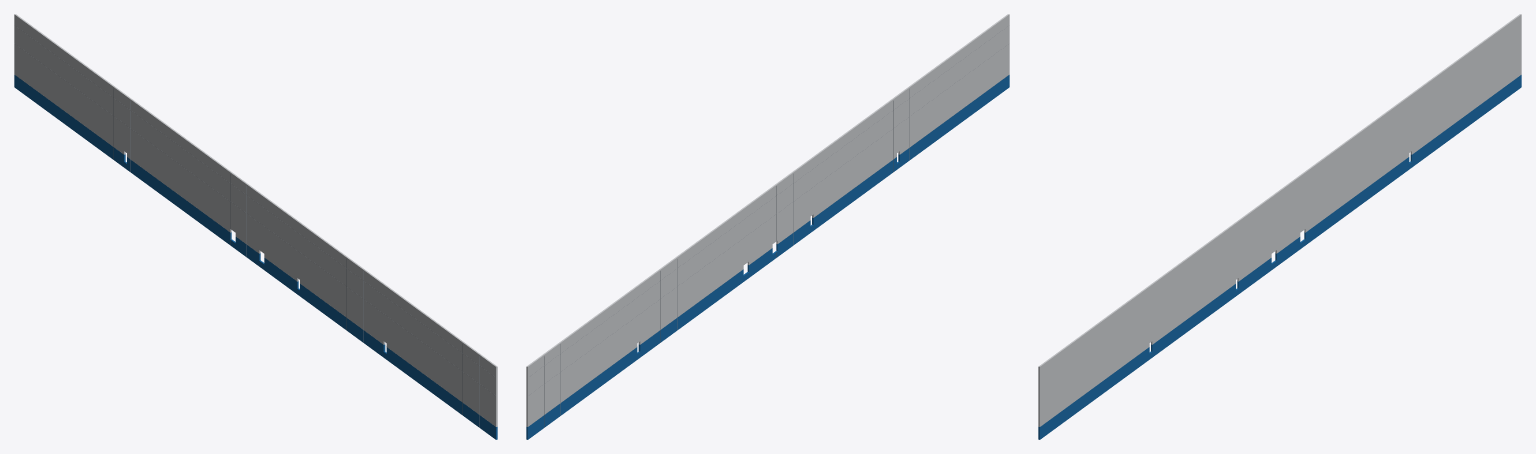
Rendered from SM_MPR_CAD_Facade_15_20261112.fbx.
The picture shows the model from 3 angles, left to right: view 1: azimuth 30°, elevation 25°; view 2: azimuth 150°, elevation 25°; view 3: azimuth 330°, elevation 25°; orthographic projection.
Visible parts, largest first — view 1: SM_MPR_CAD_Facade_15_20261112; view 2: SM_MPR_CAD_Facade_15_20261112; view 3: SM_MPR_CAD_Facade_15_20261112.
Boxes of the visible parts, box(x1,y1,x2,y2) form: SM_MPR_CAD_Facade_15_20261112: box(14, 14, 497, 439); SM_MPR_CAD_Facade_15_20261112: box(526, 14, 1009, 439); SM_MPR_CAD_Facade_15_20261112: box(1038, 14, 1521, 439).
Bounding box in the file's own units: 31.44 × 17678 × 1480.
